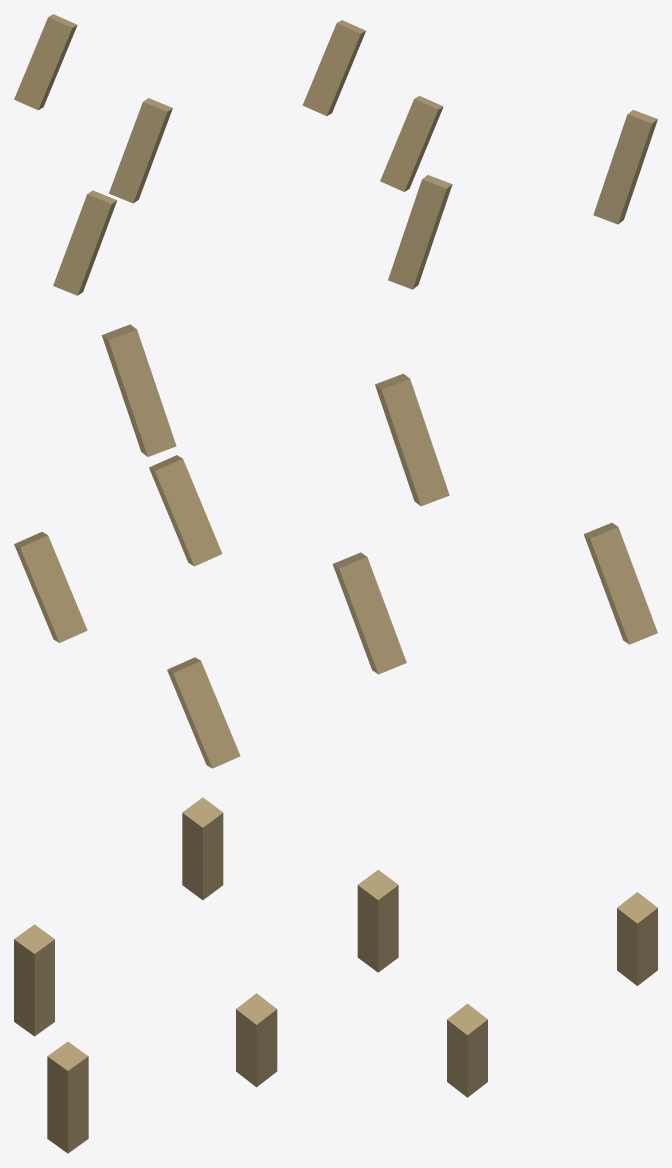
The model's file is crop_barley_dormant.glb.
3 renders of one model, top to bottom at view 1: azimuth 30°, elevation 25°; view 2: azimuth 150°, elevation 25°; view 3: azimuth 270°, elevation 25°, orthographic. The views are drawn at different scales.
Parts seen in each view (by area): view 1: crop_barley_dormant; view 2: crop_barley_dormant; view 3: crop_barley_dormant.
Boxes of the visible parts, left/top/right/bottom form: crop_barley_dormant: left=14, top=14, right=657, bottom=295; crop_barley_dormant: left=14, top=324, right=657, bottom=768; crop_barley_dormant: left=14, top=797, right=657, bottom=1153.
Size of the model in its own units: 0.3974 by 0.0743 by 0.3756.
